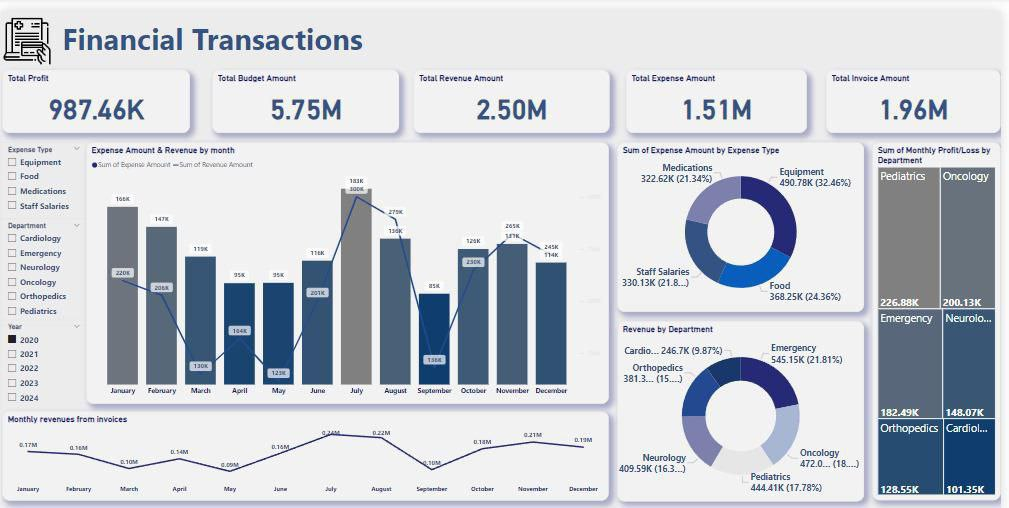

What the dashboard file says about the page in this screenshot:
{"tool":"powerbi","page":{"name":"Finance","canvas":[2000,1000],"ordinal":0},"visuals":[{"type":"lineChart","title":"Monthly revenues from invoices  ","fields":{"Category":["Financial - data.Invoice Date.Variation.Date Hierarchy.Month"],"Y":["Sum(Financial - data.Invoice Amount)"]},"box":[2.6,800,1213.2,178.9],"z":0},{"type":"treemap","fields":{"Values":["Sum(Financial - data.Monthly Profit/Loss)"],"Group":["Financial - data.Department"]},"box":[1742.9,263.3,257.1,716.3],"z":1000},{"type":"donutChart","title":"Sum of Expense Amount by Expense Type","fields":{"Y":["Sum(Financial - data.Expense Amount)"],"Category":["Financial - data.Expense Type"]},"box":[1233.3,262.5,493.8,339.6],"z":2000},{"type":"donutChart","title":"Revenue by Department","fields":{"Y":["Sum(Financial - data.Revenue Amount)"],"Category":["Financial - data.Department"]},"box":[1233.3,618.8,493.8,360.4],"z":3000},{"type":"lineClusteredColumnComboChart","title":"Expense Amount & Revenue by month","fields":{"Y2":["Sum(Financial - data.Revenue Amount)"],"Y":["Sum(Financial - data.Expense Amount)"],"Category":["Financial - data.Date.Variation.Date Hierarchy.Month"]},"box":[170.8,262.5,1045.8,522.9],"z":4000},{"type":"card","title":"Total Invoice Amount","fields":{"Values":["Sum(Financial - data.Invoice Amount)"]},"box":[1651,118.4,349,126.5],"z":5000},{"type":"card","title":"Total Expense  Amount","fields":{"Values":["Sum(Financial - data.Expense Amount)"]},"box":[1251,118.4,361.2,126.5],"z":6000},{"type":"card","title":"Total Profit ","fields":{"Values":["Sum(Financial - data.Monthly Profit/Loss)"]},"box":[2,118.4,375.5,126.5],"z":7000},{"type":"card","title":"Total Revenue Amount","fields":{"Values":["Sum(Financial - data.Revenue Amount)"]},"box":[824.5,116.3,391.8,126.5],"z":8000},{"type":"card","title":"Total Budget Amount","fields":{"Values":["Sum(Financial - data.Budget Amount)"]},"box":[422.4,116.3,373.5,126.5],"z":9000},{"type":"slicer","fields":{"Values":["Financial - data.Expense Type"]},"box":[0,263.2,171.1,152.6],"z":10000},{"type":"slicer","fields":{"Values":["Financial - data.Date.Variation.Date Hierarchy.Year"]},"box":[0,618.4,171.1,181.6],"z":11000},{"type":"slicer","fields":{"Values":["Financial - data.Department"]},"box":[0,415.8,171.1,213.2],"z":12000},{"type":"image","box":[0,4.1,104.1,112.2],"z":13000},{"type":"textbox","box":[118.4,10.2,695.9,98],"z":14000}]}

Visuals, with their boxes in screenshot pixels (x1, y1, x2, y2), scaled from the page's 2000x1000 canvas onto the 1009x508 screenshot:
"Monthly revenues from invoices  " lineChart: BBox(1, 406, 613, 497)
treemap - Sum(Financial - data.Monthly Profit/Loss) x Financial - data.Department: BBox(879, 134, 1008, 498)
"Sum of Expense Amount by Expense Type" donutChart: BBox(622, 133, 871, 306)
"Revenue by Department" donutChart: BBox(622, 314, 871, 497)
"Expense Amount & Revenue by month" lineClusteredColumnComboChart: BBox(86, 133, 614, 399)
"Total Invoice Amount" card: BBox(833, 60, 1008, 124)
"Total Expense  Amount" card: BBox(631, 60, 813, 124)
"Total Profit " card: BBox(1, 60, 190, 124)
"Total Revenue Amount" card: BBox(416, 59, 614, 123)
"Total Budget Amount" card: BBox(213, 59, 402, 123)
slicer - Financial - data.Expense Type: BBox(0, 134, 86, 211)
slicer - Financial - data.Date.Variation.Date Hierarchy.Year: BBox(0, 314, 86, 406)
slicer - Financial - data.Department: BBox(0, 211, 86, 320)
image: BBox(0, 2, 53, 59)
textbox: BBox(60, 5, 411, 55)
